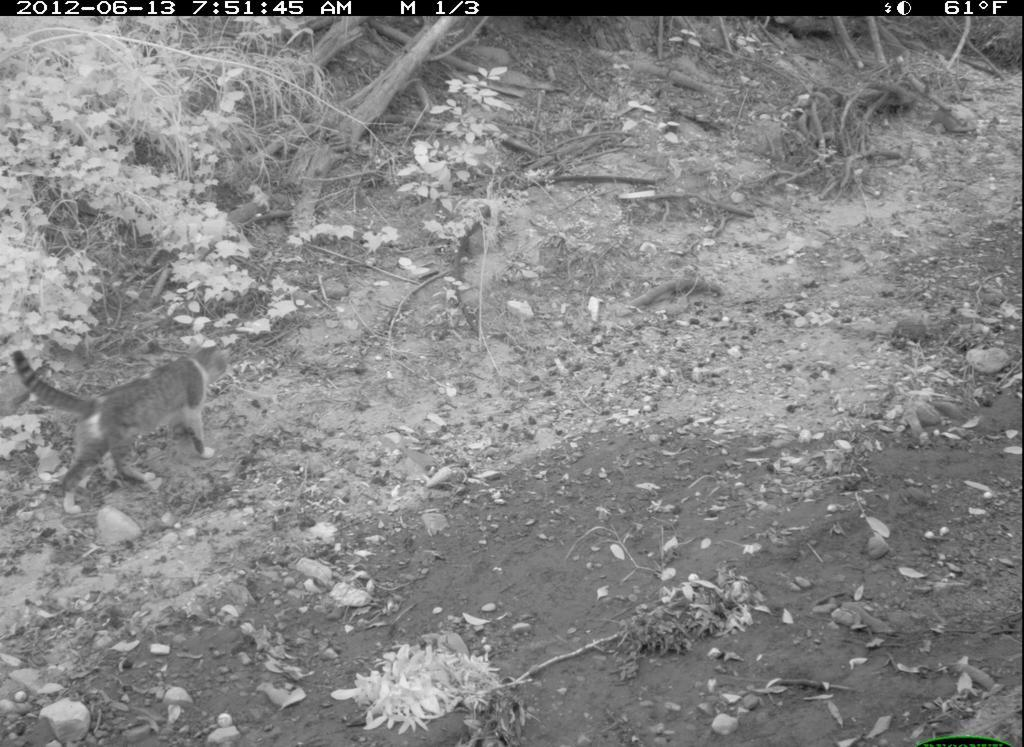cat: (11, 337, 235, 519)
